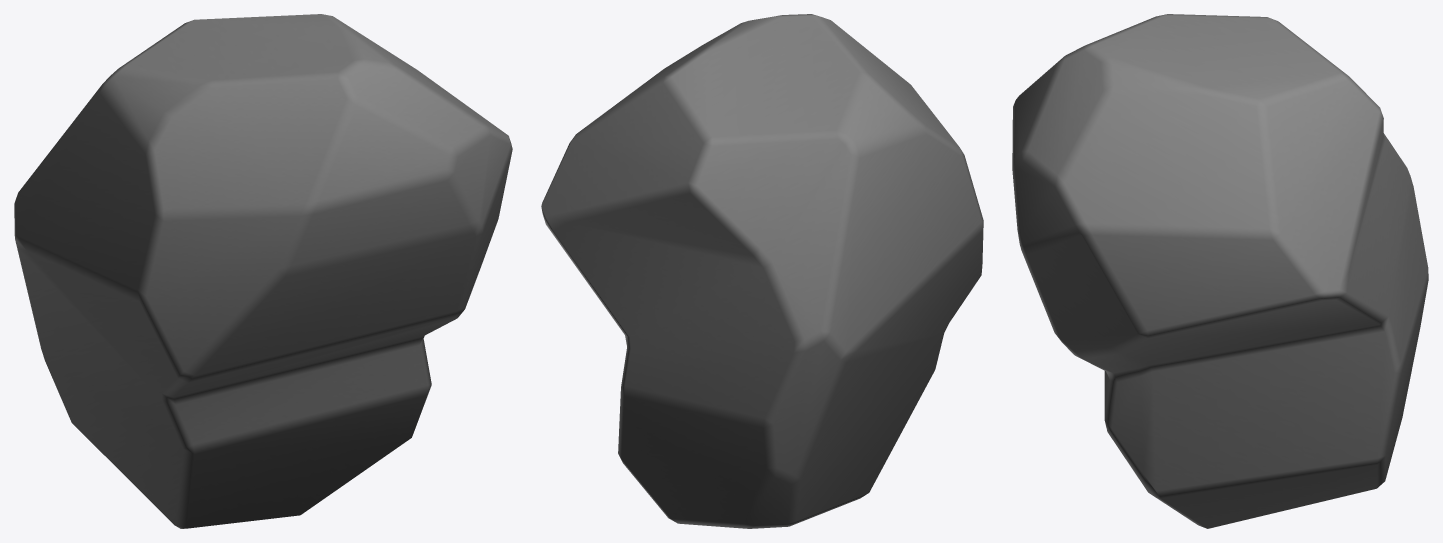
Rendered from SM_rockCliff_dynamic_4.fbx.
The picture shows the model from 3 angles, left to right: view 1: azimuth 30°, elevation 25°; view 2: azimuth 150°, elevation 25°; view 3: azimuth 270°, elevation 25°; orthographic projection. The views are drawn at different scales.
Visible parts, largest first — view 1: SM_rockCliff_dynamic_4; view 2: SM_rockCliff_dynamic_4; view 3: SM_rockCliff_dynamic_4.
Boxes of the visible parts, <box> form: SM_rockCliff_dynamic_4: <box>14,14,512,528</box>; SM_rockCliff_dynamic_4: <box>541,14,983,528</box>; SM_rockCliff_dynamic_4: <box>1012,14,1428,528</box>.
Bounding box in the file's own units: 122 × 150 × 119.
Materials: 1 (1 with a texture image).
